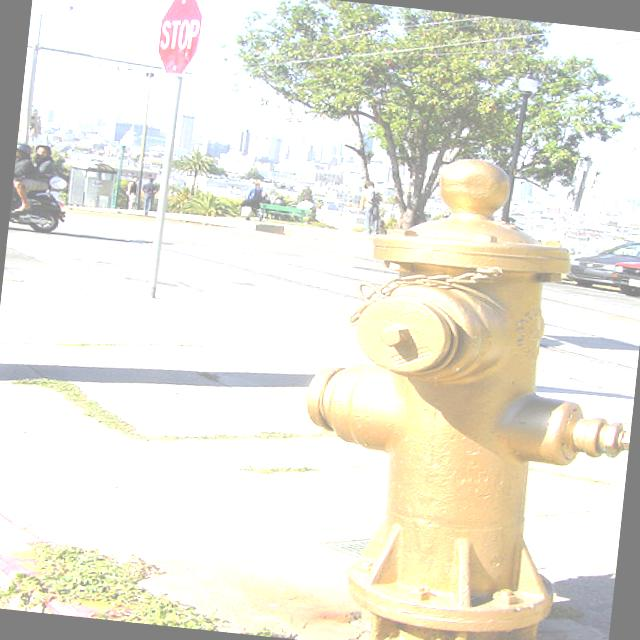Vehicle: (563, 233, 640, 291), (8, 167, 71, 235), (609, 243, 640, 298)
